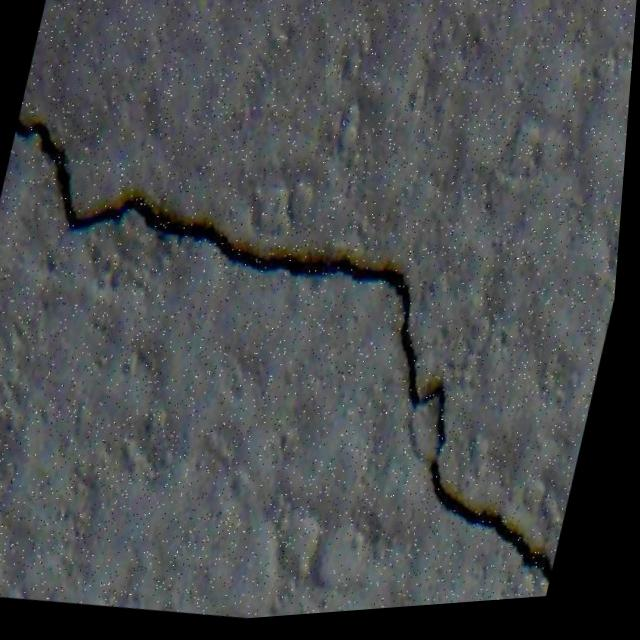Crack: (0, 58, 634, 637)
